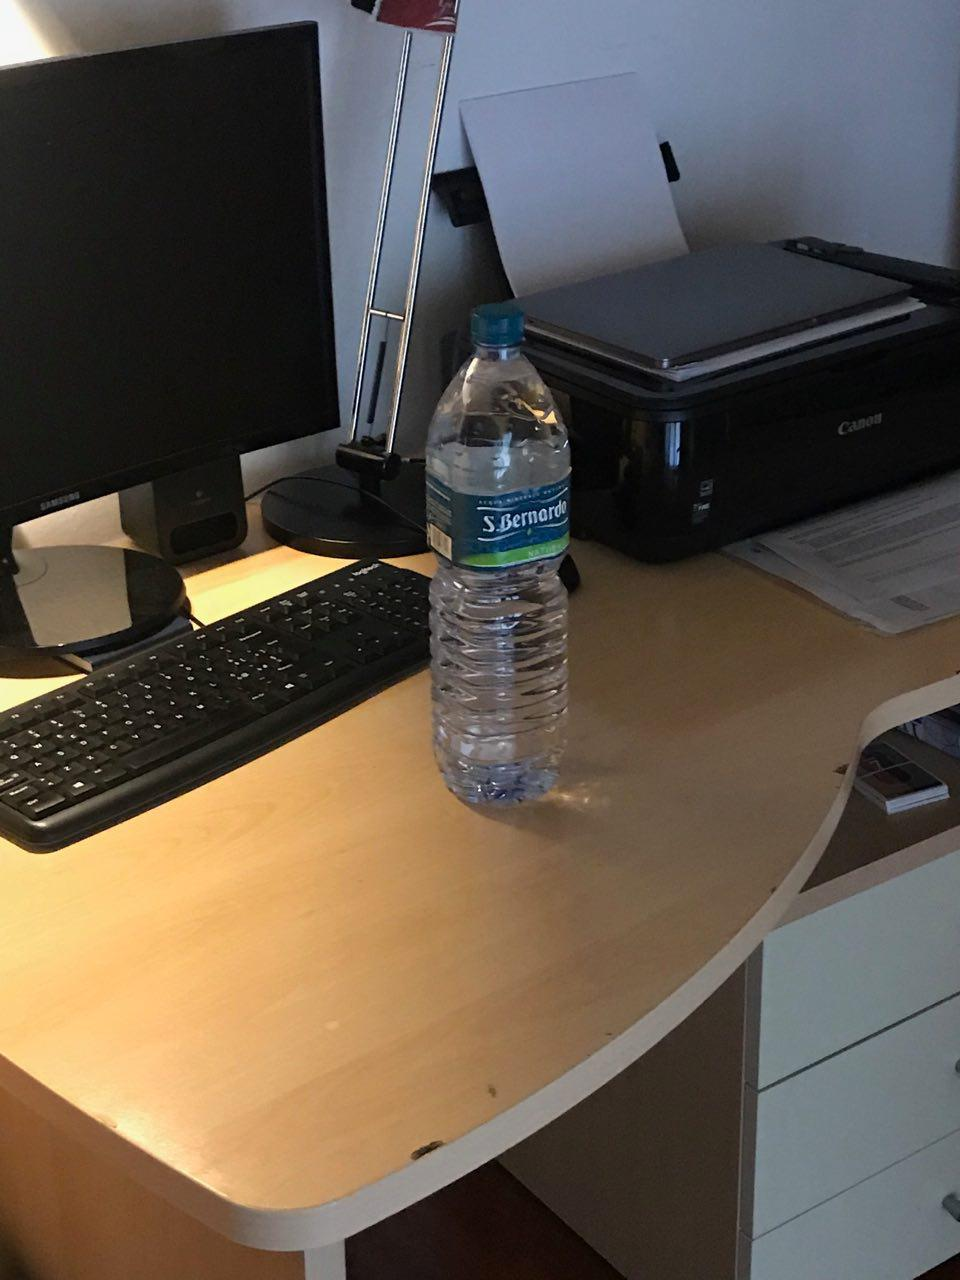san_bernardo: (423, 301, 572, 805)
